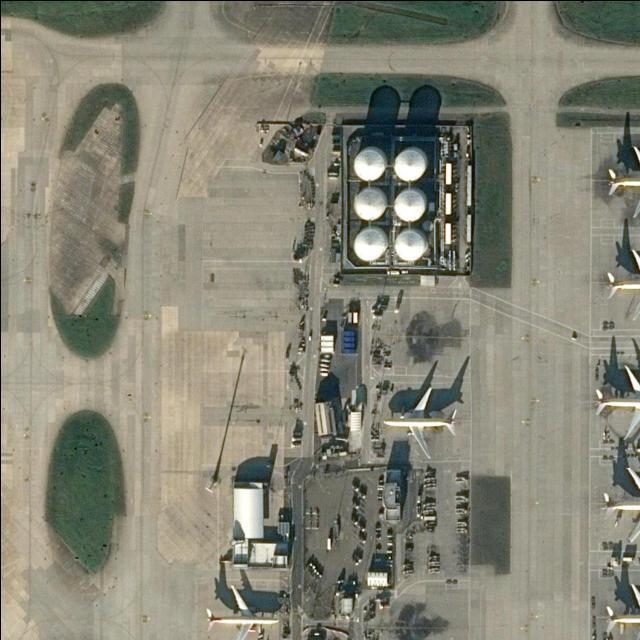Aircraft: (383, 384, 459, 458), (383, 385, 459, 455), (205, 582, 281, 640), (206, 582, 280, 640), (594, 361, 640, 438), (594, 363, 640, 439), (601, 465, 640, 540), (604, 464, 640, 544), (604, 246, 640, 319), (606, 245, 640, 319), (606, 144, 640, 216), (608, 144, 640, 214), (603, 581, 640, 640), (604, 580, 640, 640)
